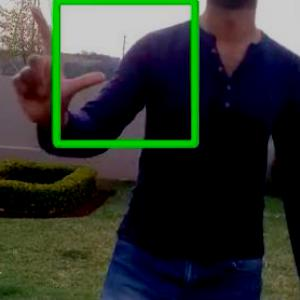land_hand: (4, 0, 106, 132)
